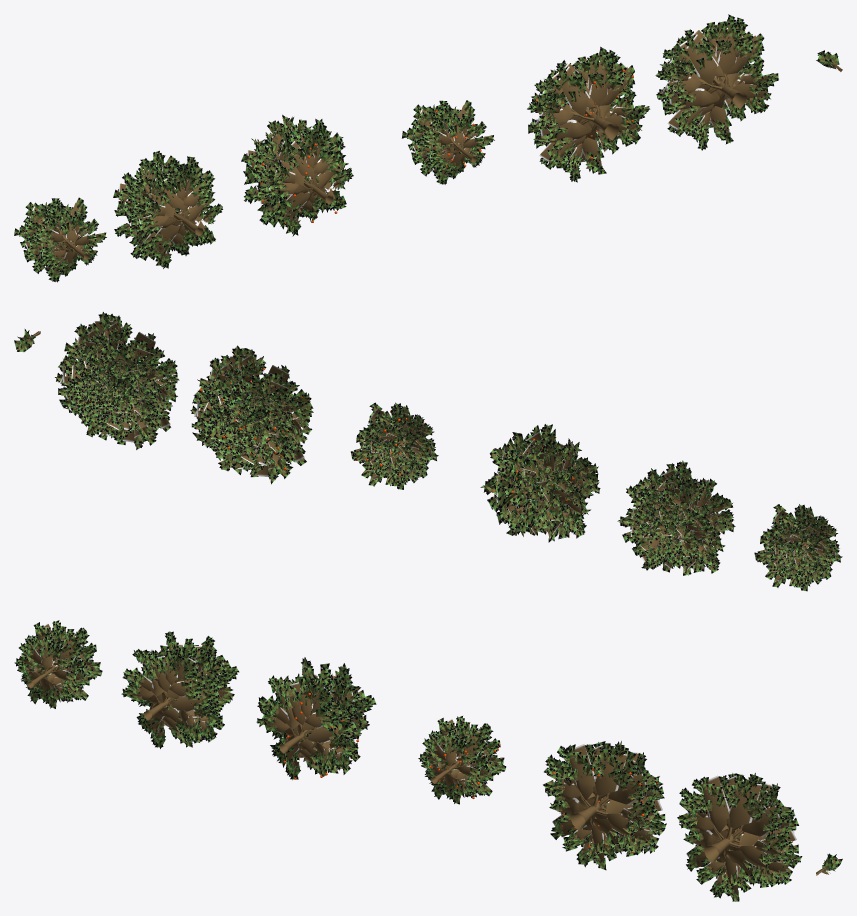
Rendered from tree.fbx.
The picture shows the model from 3 angles, top to bottom: view 1: azimuth 30°, elevation 25°; view 2: azimuth 150°, elevation 25°; view 3: azimuth 330°, elevation 25°; orthographic projection. The views are drawn at different scales.
Parts seen in each view (by area): view 1: tree_3, tree_2, tree_5, tree_6, tree_4, tree_7; view 2: tree_3, tree_2, tree_5, tree_6, tree_7, tree_4; view 3: tree_3, tree_2, tree_5, tree_6, tree_7, tree_4.
Boxes of the visible parts, left/top/right/bottom form: tree_3: left=527, top=46, right=650, bottom=182; tree_2: left=655, top=14, right=778, bottom=150; tree_5: left=241, top=114, right=353, bottom=236; tree_6: left=113, top=150, right=223, bottom=268; tree_4: left=401, top=100, right=494, bottom=184; tree_7: left=14, top=197, right=106, bottom=282; tree_3: left=190, top=345, right=313, bottom=484; tree_2: left=55, top=311, right=179, bottom=450; tree_5: left=480, top=424, right=600, bottom=542; tree_6: left=617, top=460, right=735, bottom=575; tree_7: left=754, top=504, right=842, bottom=591; tree_4: left=350, top=402, right=438, bottom=489; tree_3: left=543, top=740, right=666, bottom=870; tree_2: left=677, top=773, right=802, bottom=901; tree_5: left=256, top=657, right=376, bottom=780; tree_6: left=121, top=631, right=239, bottom=748; tree_7: left=14, top=620, right=102, bottom=708; tree_4: left=418, top=716, right=506, bottom=804.
Size of the model in its own units: 21001 by 3167 by 2738.
